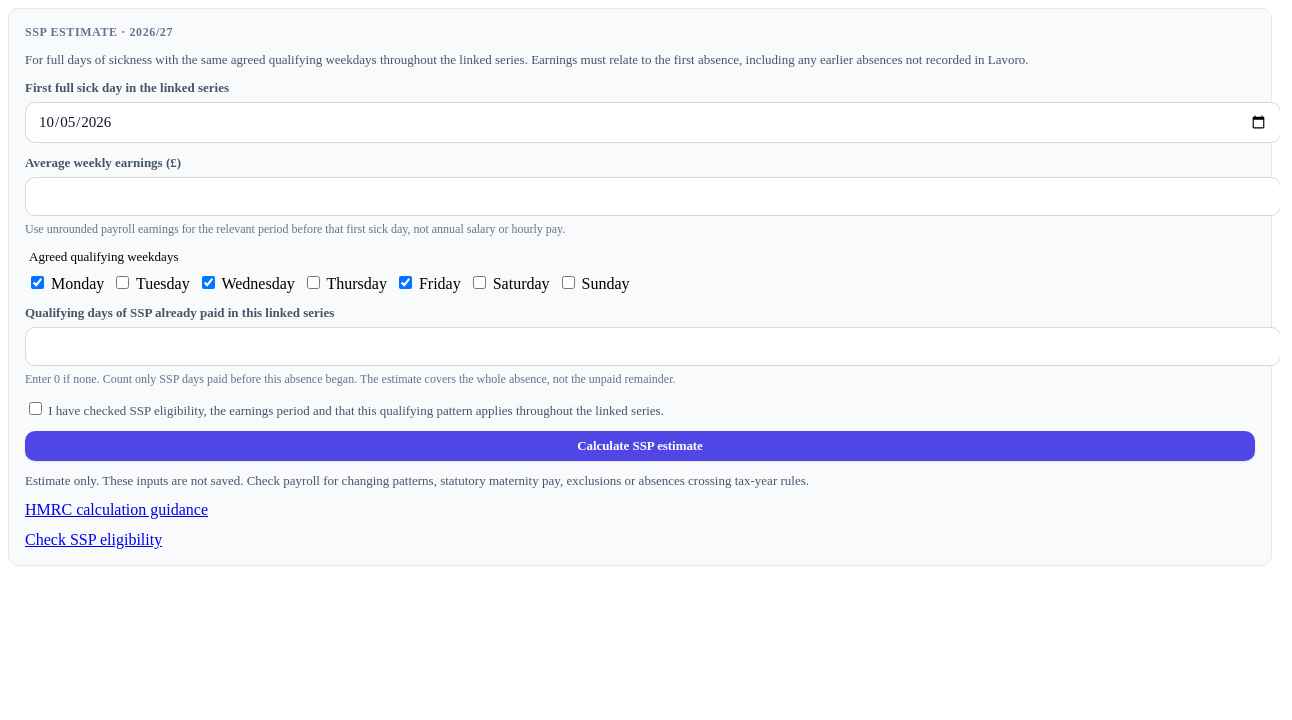
requires explicit earnings and previous paid days instead of inventing values
This screenshot has width=1292, height=720.
Click the button "Calculate SSP estimate".
click(640, 446)  # box x1=25 y1=431 x2=1255 y2=461
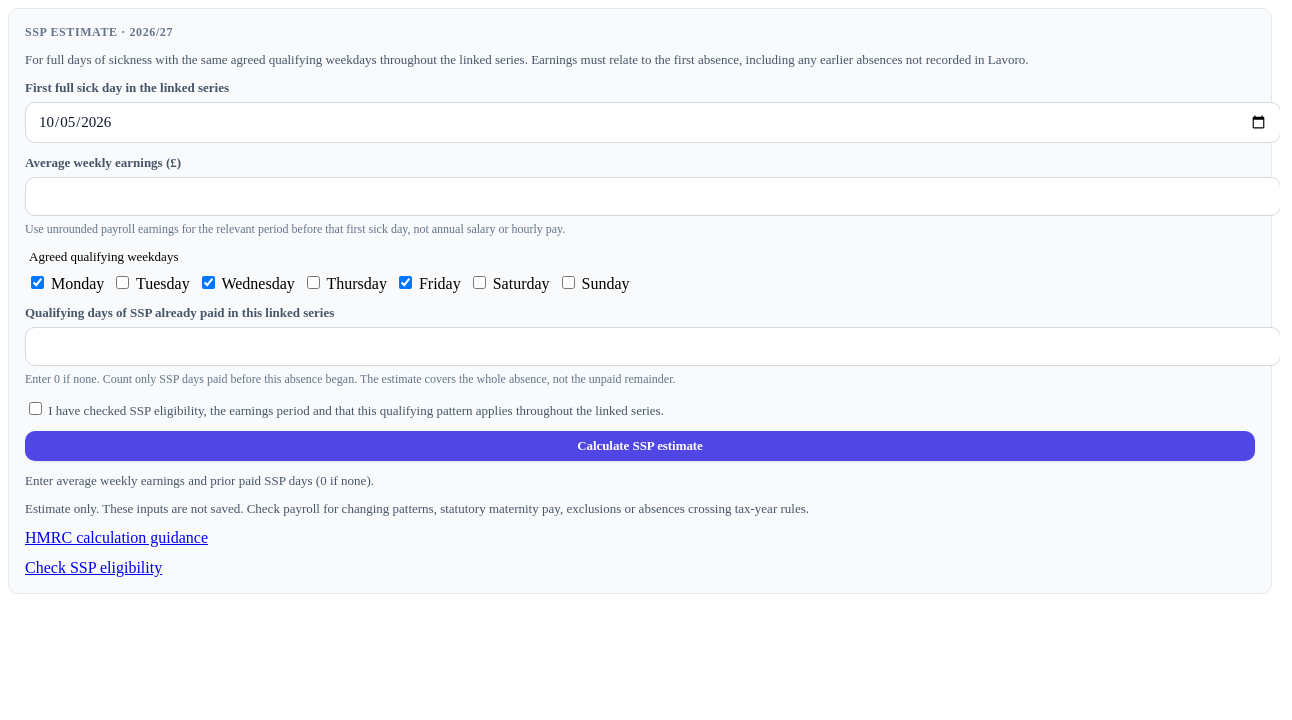
Check: the message shows "Enter average weekly earnings", box x1=25 y1=473 x2=374 y2=488
